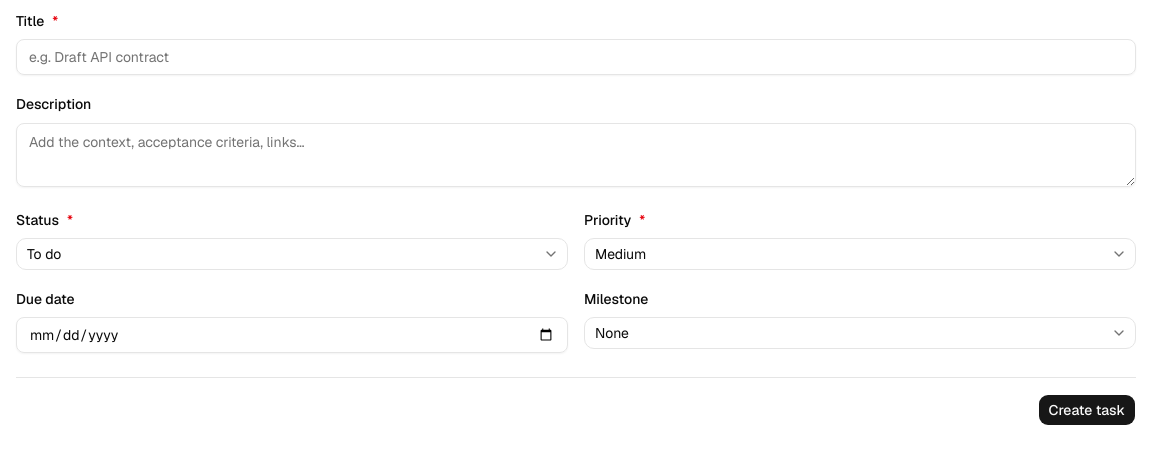
Scenario: TaskForm (create mode) › shows a zod error when the title is missing
Click the button "Create task" at (1087,410), box x1=1038 y1=394 x2=1136 y2=426
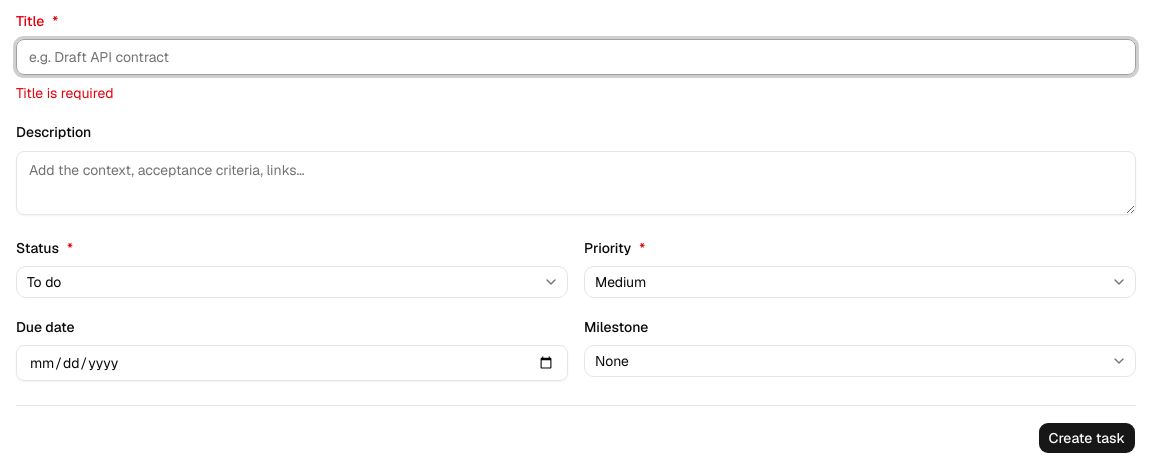
Expected: the text "Title is required" is shown, x1=16 y1=84 x2=114 y2=102
